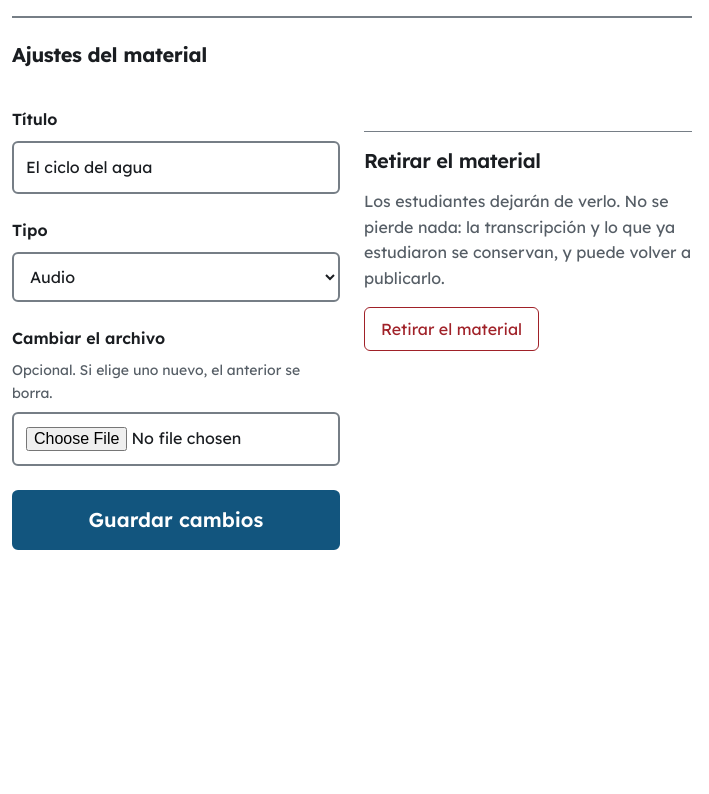
Test: Ajustes del material › si falla el retiro, se avisa y el material no se da por retirado
Click the button "Retirar el material" at point(451, 329), box [364,307,539,351]
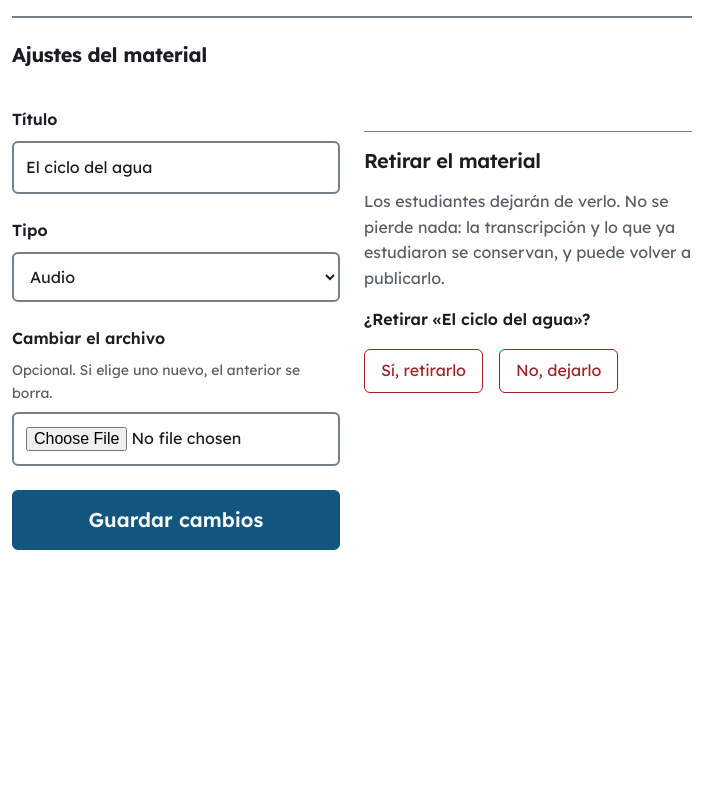
Click the button "Sí, retirarlo" at point(423, 371), box [364,349,483,393]
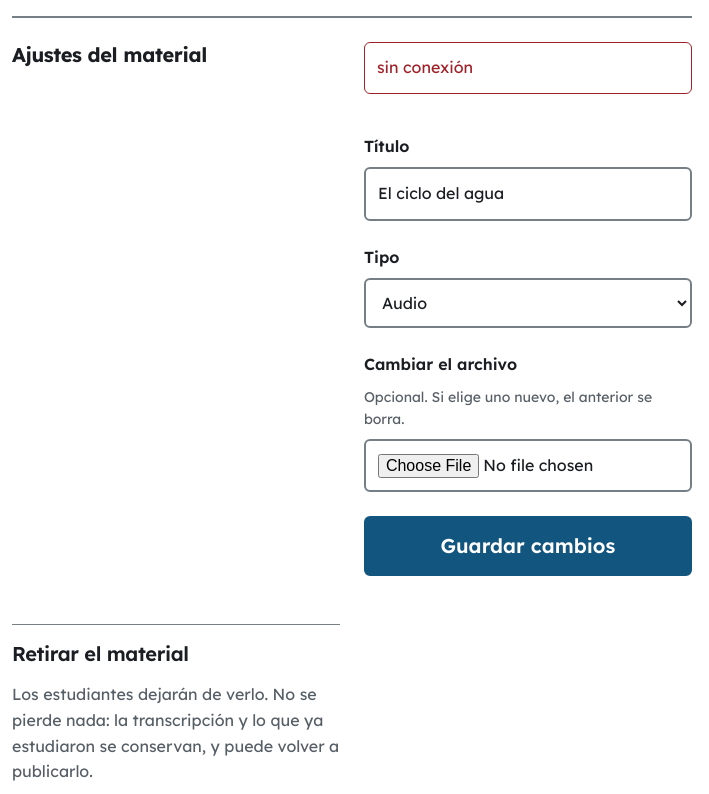
Expected: the message reads "sin conexión", [377,57,473,77]
